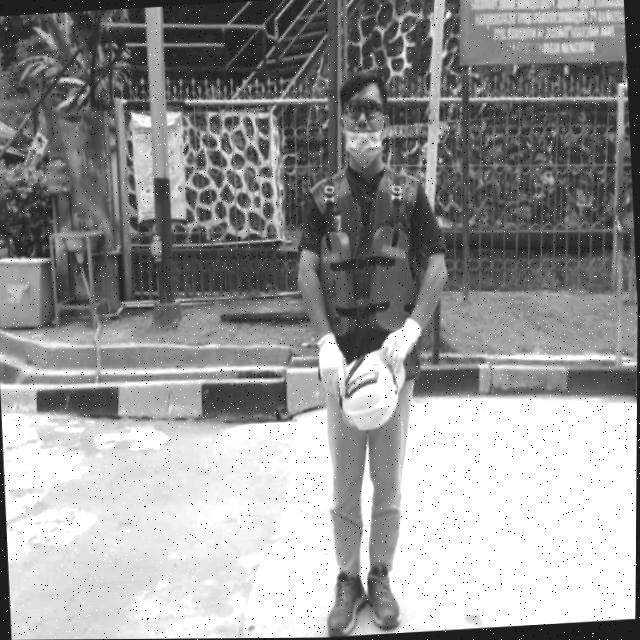goggles_on: (334, 98, 396, 122)
